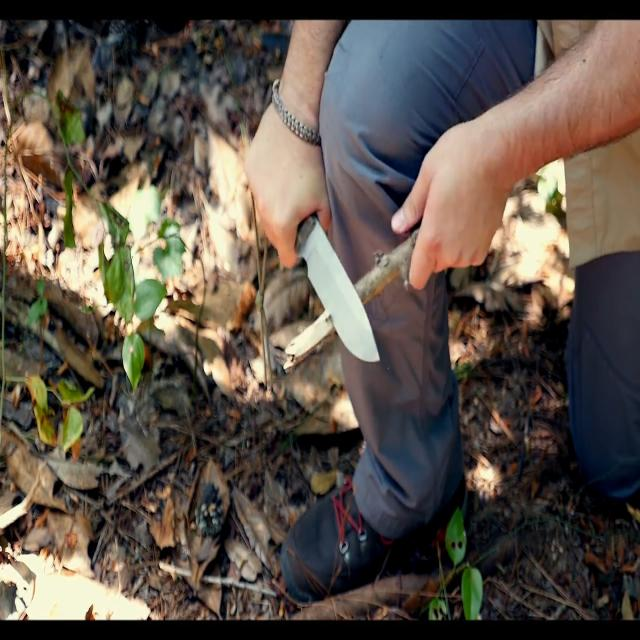knife: (300, 214, 384, 375)
